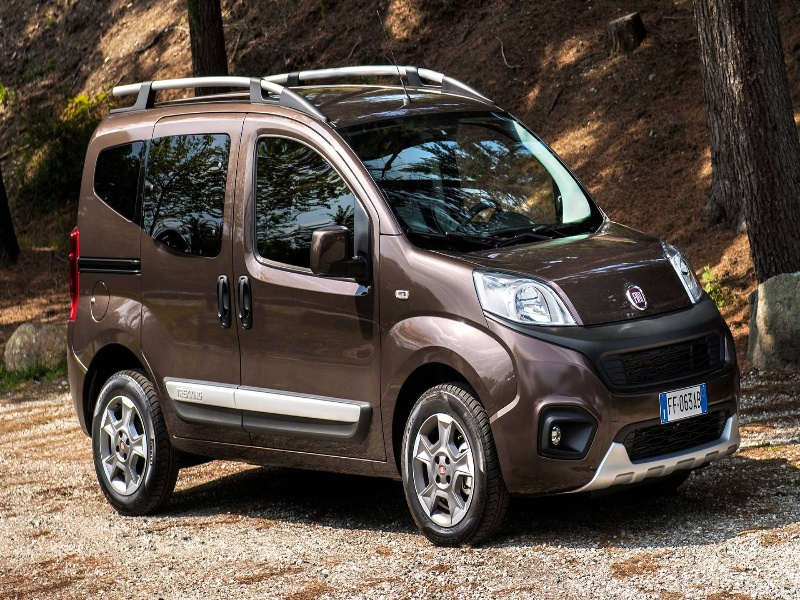licenceplate: (659, 382, 708, 424)
